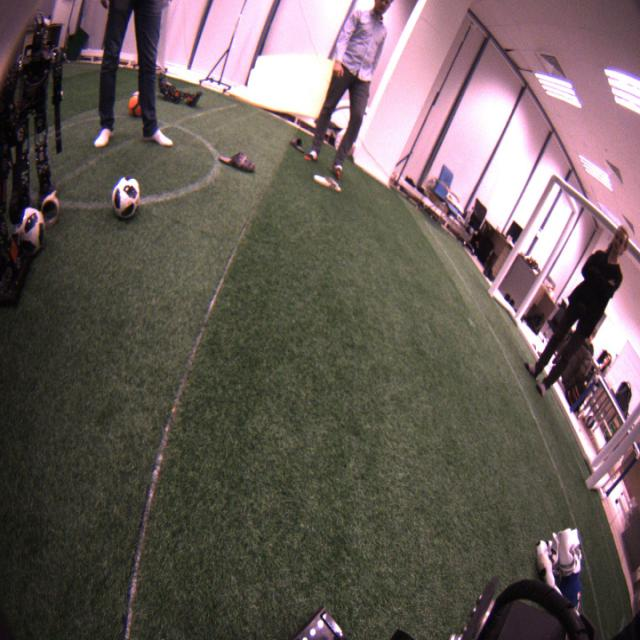ball: (13, 208, 48, 258), (112, 176, 139, 217), (128, 90, 144, 119)
goalpost: (486, 174, 562, 298), (583, 422, 639, 492)
